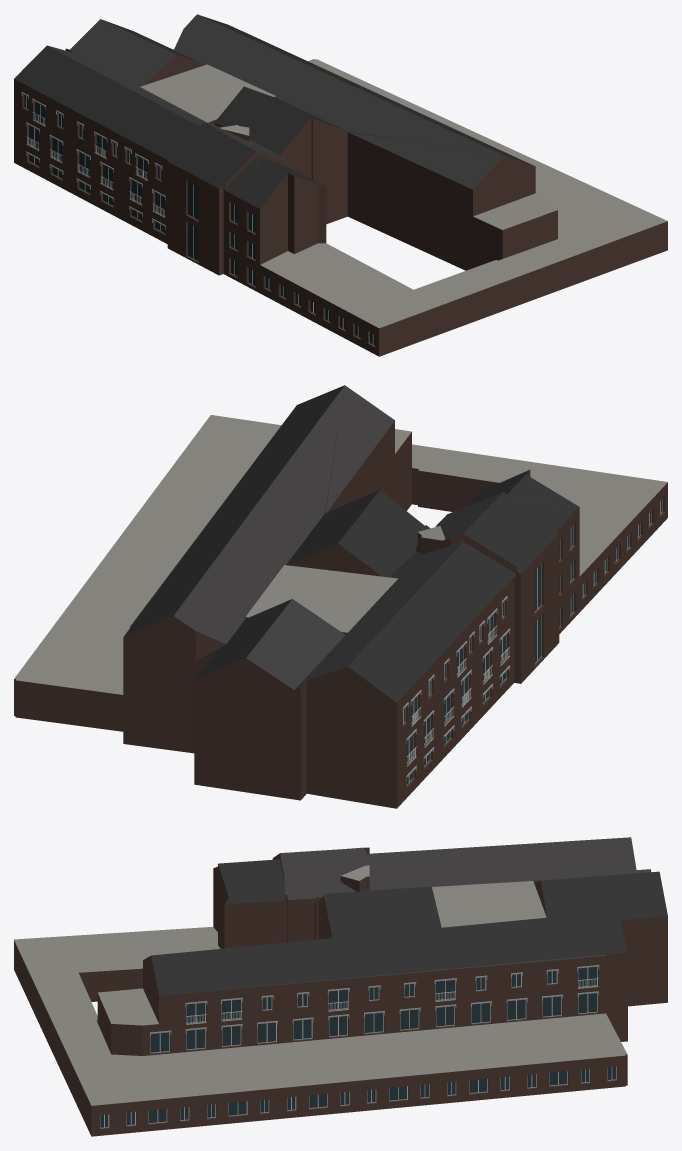
File: recipe-large-rode-kruisstraat-2-251336.glb
The picture shows the model from 3 angles, top to bottom: view 1: azimuth 30°, elevation 25°; view 2: azimuth 150°, elevation 25°; view 3: azimuth 270°, elevation 25°; orthographic projection. The views are drawn at different scales.
Parts seen in each view (by area): view 1: rode-kruisstraat-2-251336; view 2: rode-kruisstraat-2-251336; view 3: rode-kruisstraat-2-251336.
Boxes of the visible parts, x1=… form: rode-kruisstraat-2-251336: x1=14, y1=14, x2=667, y2=356; rode-kruisstraat-2-251336: x1=14, y1=385, x2=667, y2=808; rode-kruisstraat-2-251336: x1=14, y1=837, x2=667, y2=1136.
Bounding box in the file's own units: 44.31 × 11.9 × 59.47.
